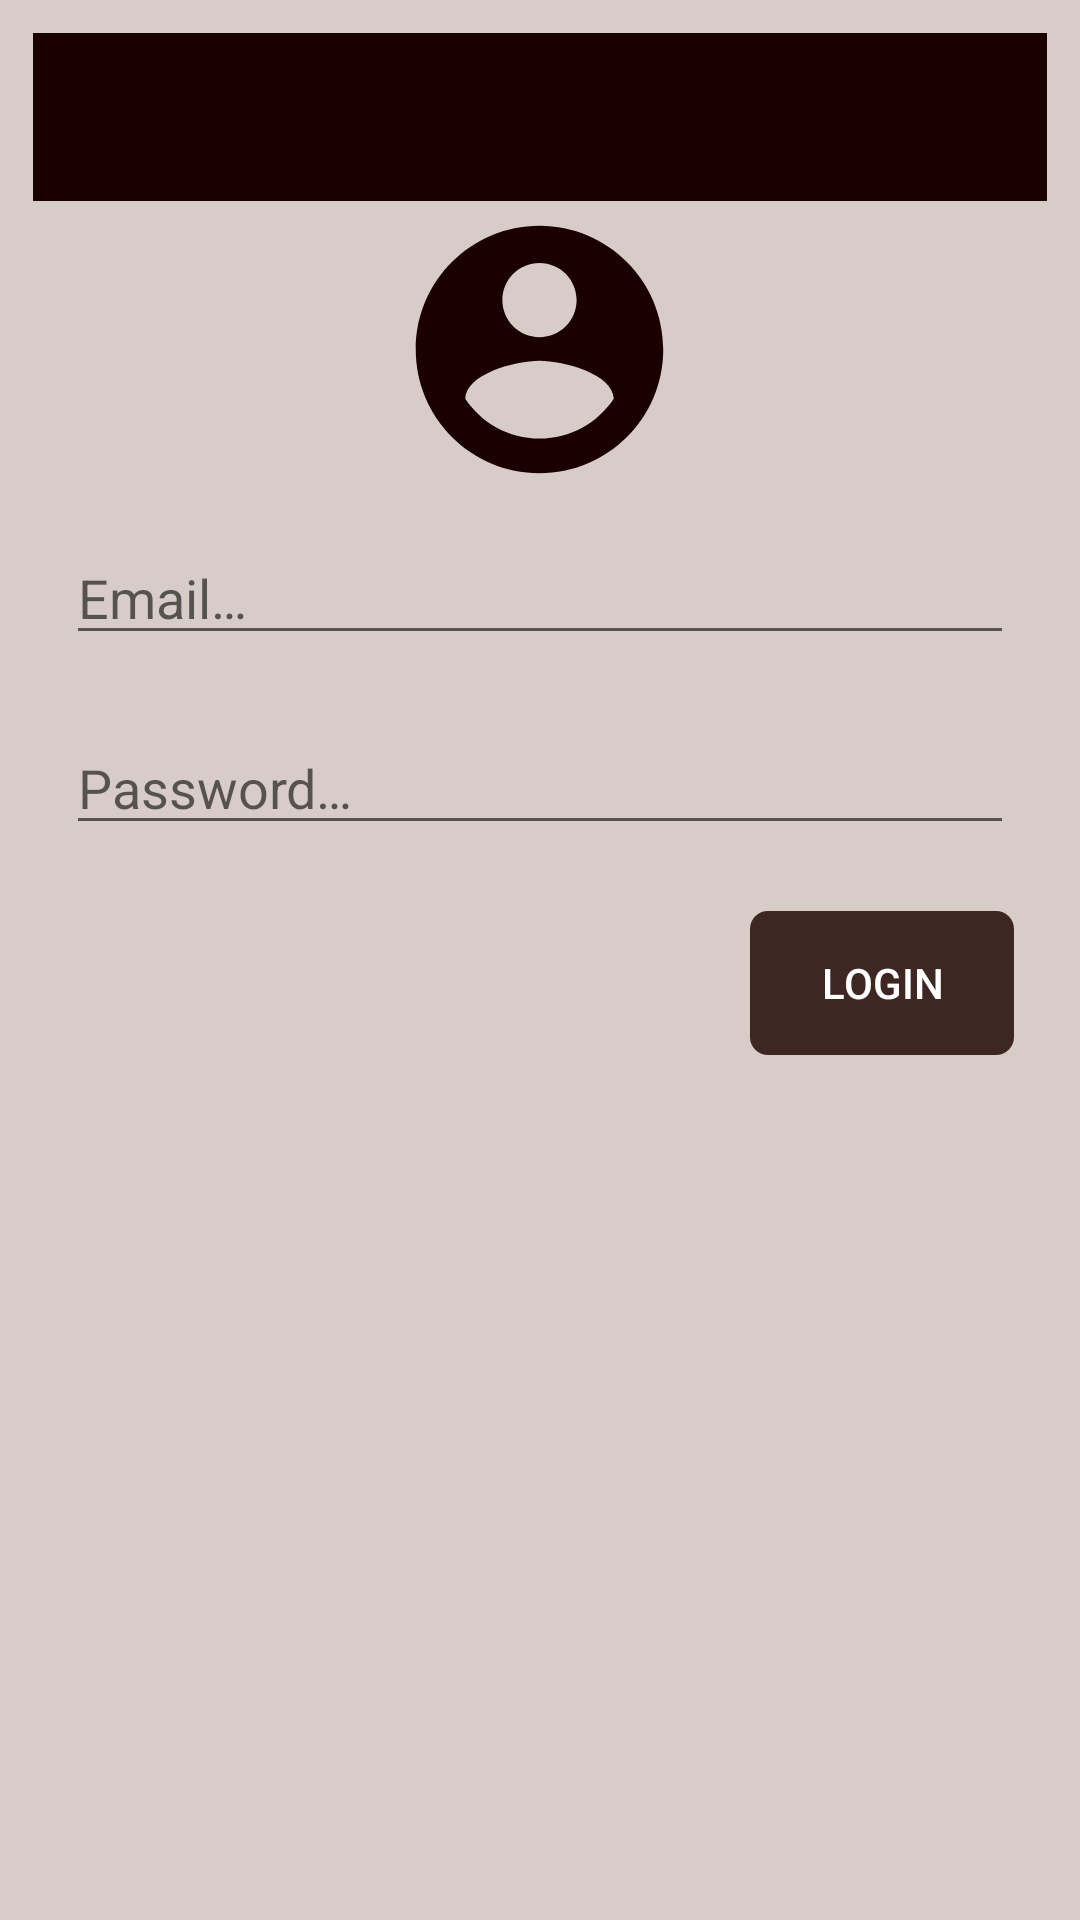

Screen size 1080 × 1920. Icon name, then its center in pixels as point (x, y):
account circle: point (539, 349)
